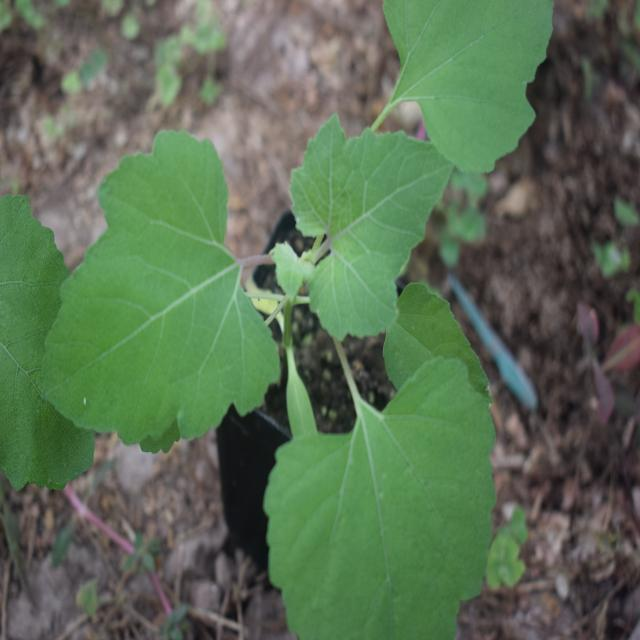cocklebur: (46, 74, 553, 610)
